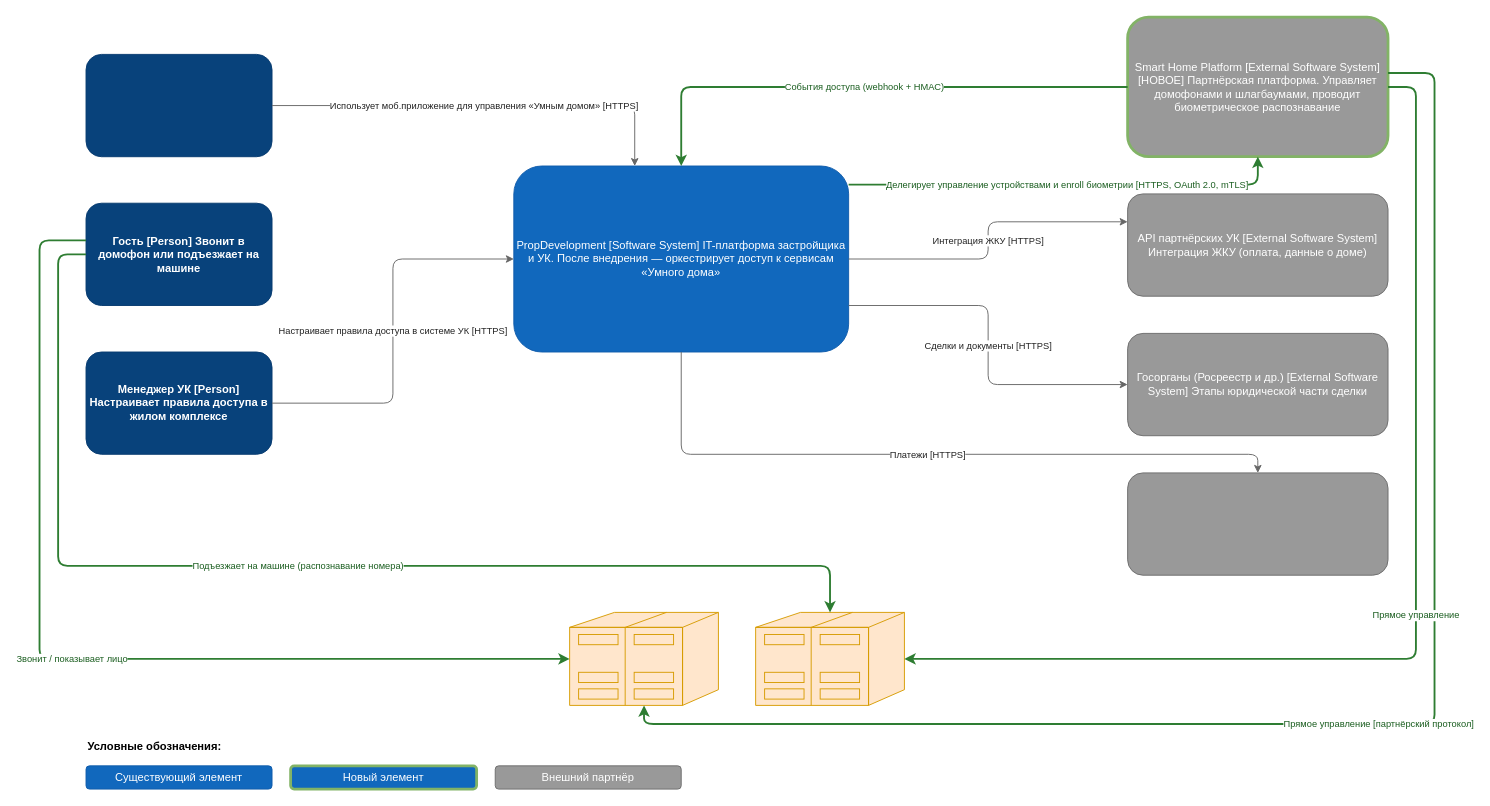
Image size: 1490x806. Some labels were removed from this diagram. The shapes that lost their labels are listed below. From the top down, each one's centre as x and y in pixels, then its label:
At (x=178, y=105): "Собственник [Person] Жилец, использует моб.приложение".
At (x=1257, y=523): "Платёжные системы [External Software System] Приём оплаты ЖКУ и сделок".
At (x=643, y=658): "Видеодомофон [Hardware] [НОВОЕ]".
At (x=829, y=658): "Шлагбаум [Hardware] [НОВОЕ]".
